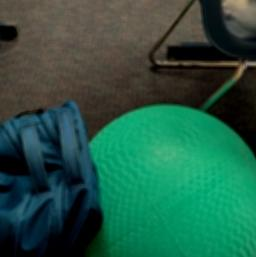algae: (76, 106, 256, 257)
